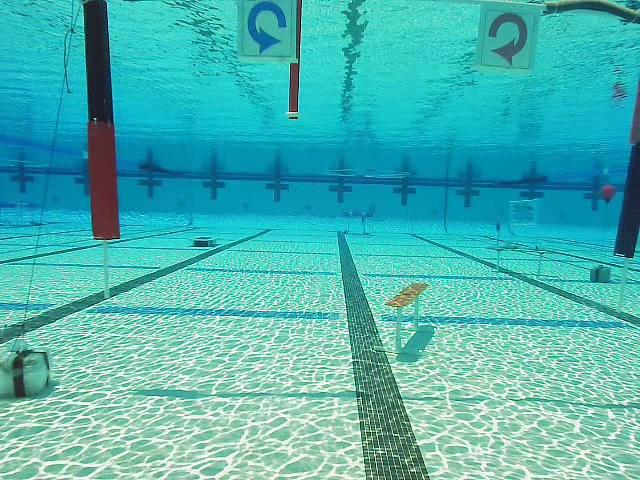buoy: (599, 185, 618, 208)
dropper: (190, 234, 218, 248)
gate_red: (480, 7, 539, 69)
table: (340, 209, 373, 235)
torpedo: (509, 198, 538, 226)
